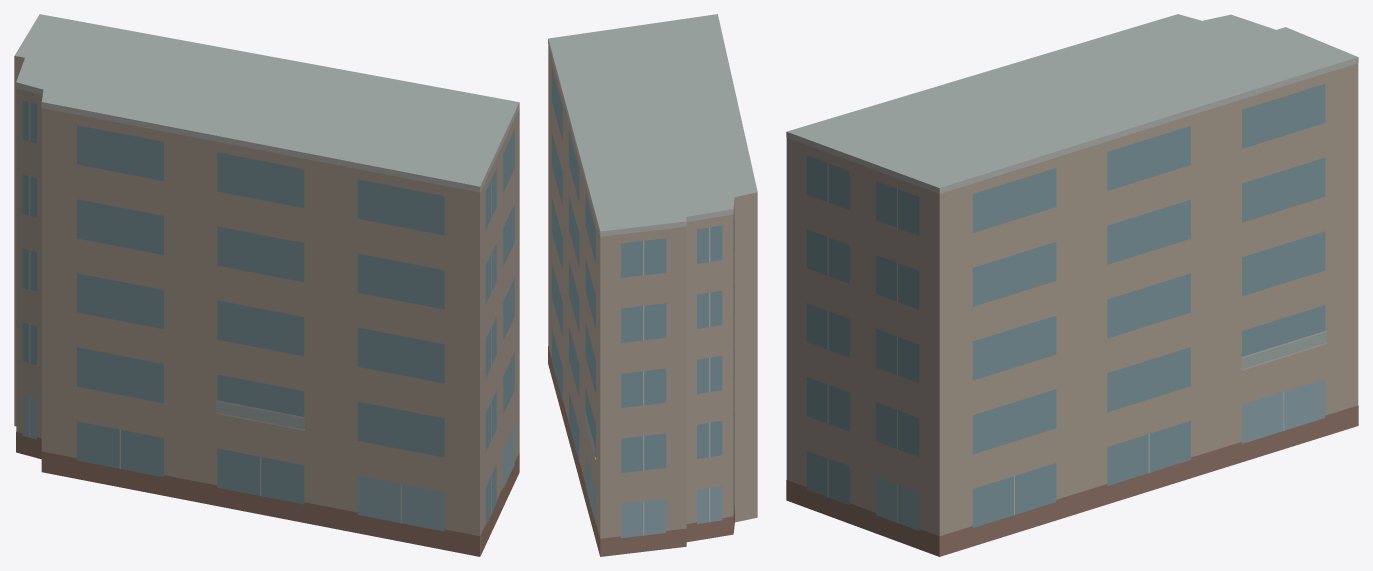
The model's file is survey-upis-32770718.glb.
3 views of the same model, side by side, from view 1: azimuth 30°, elevation 25°; view 2: azimuth 150°, elevation 25°; view 3: azimuth 270°, elevation 25° (orthographic). The views are drawn at different scales.
Visible parts, largest first — view 1: survey-upis-32770718.tmp; view 2: survey-upis-32770718.tmp; view 3: survey-upis-32770718.tmp.
Boxes of the visible parts, <box> form: survey-upis-32770718.tmp: <box>14,14,519,556</box>; survey-upis-32770718.tmp: <box>548,14,757,556</box>; survey-upis-32770718.tmp: <box>786,14,1358,556</box>.
Size of the model in its own units: 15.45 by 15.25 by 21.44.
